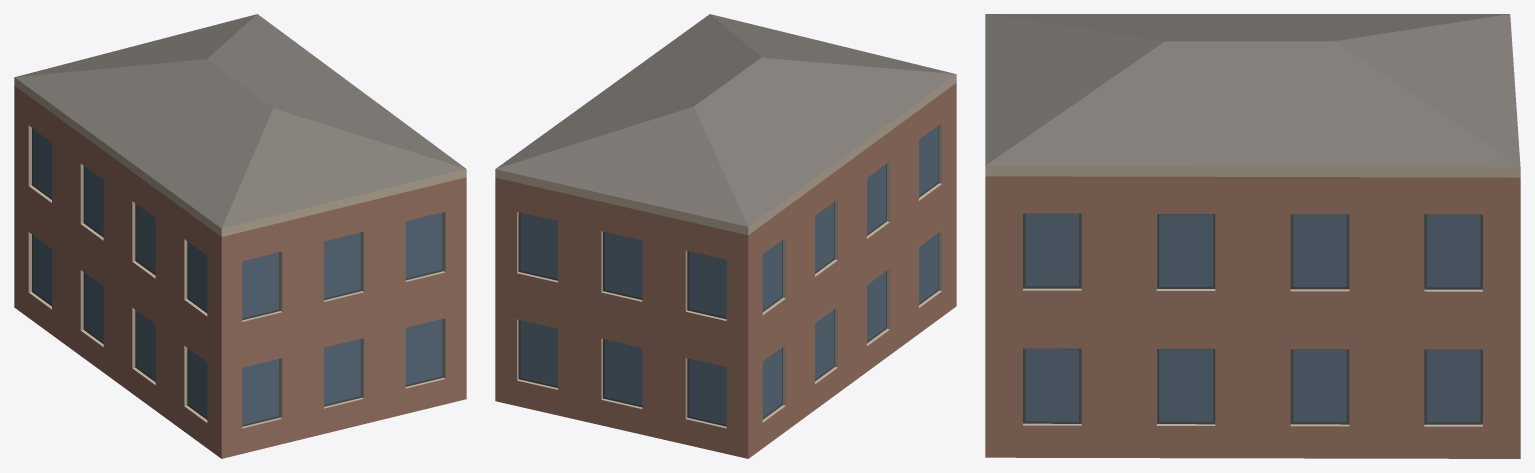
The model's file is dc-au-jack-child-hall.detail.glb.
3 renders of one model, left to right at view 1: azimuth 30°, elevation 25°; view 2: azimuth 150°, elevation 25°; view 3: azimuth 270°, elevation 25°, orthographic. The views are drawn at different scales.
Visible parts, largest first — view 1: Jack Child Hall; view 2: Jack Child Hall; view 3: Jack Child Hall.
Part boxes in pixels (box(x1,y1,x2,y2)): Jack Child Hall: box(14, 14, 466, 458); Jack Child Hall: box(495, 14, 956, 458); Jack Child Hall: box(985, 14, 1520, 458).
Bounding box in the file's own units: 9.88 × 10.28 × 14.61.
